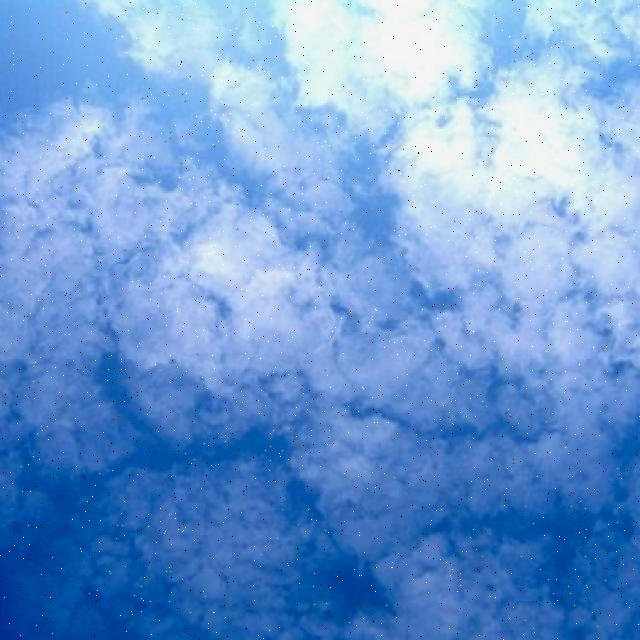Ac: (1, 35, 640, 614)
